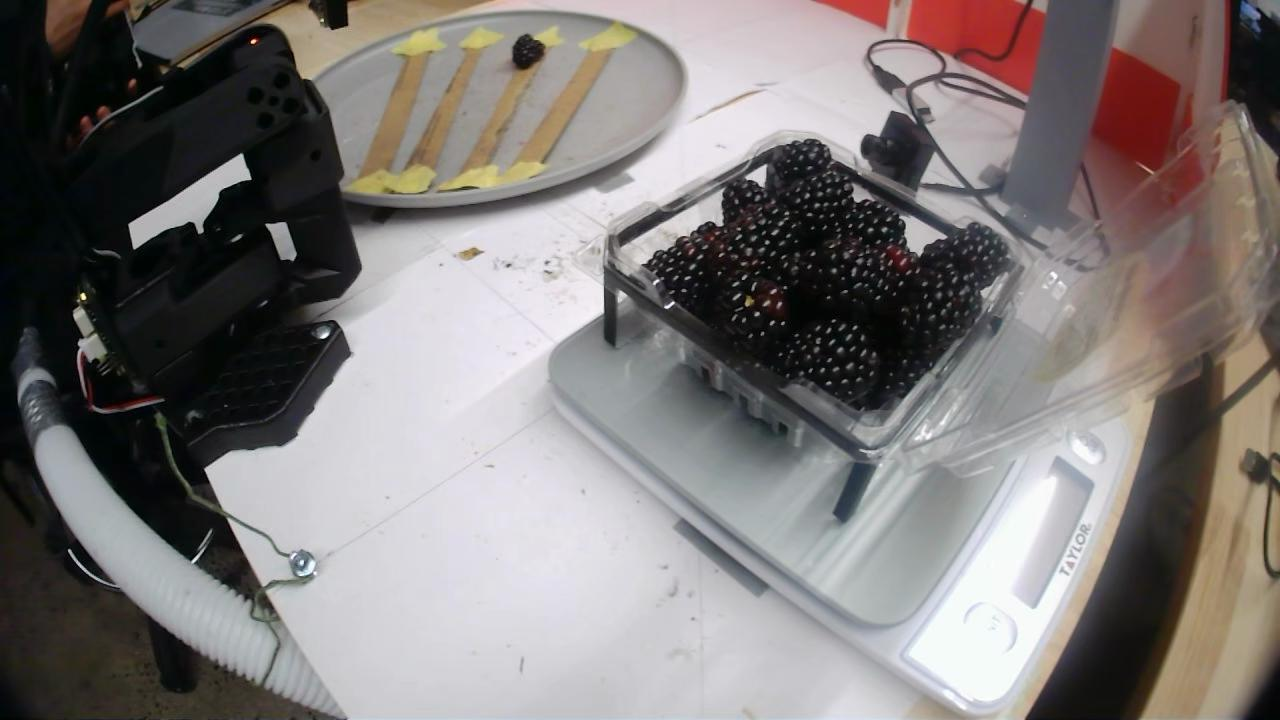berry: (876, 239, 981, 356), (791, 238, 909, 323), (713, 202, 802, 297), (777, 319, 878, 400), (644, 222, 723, 313), (721, 277, 787, 352), (778, 169, 854, 234), (941, 224, 1009, 290), (835, 198, 906, 247), (766, 139, 832, 188), (721, 178, 765, 223), (512, 33, 544, 69)
